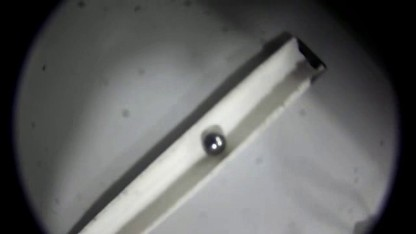gangzhu: (201, 130, 228, 155)
